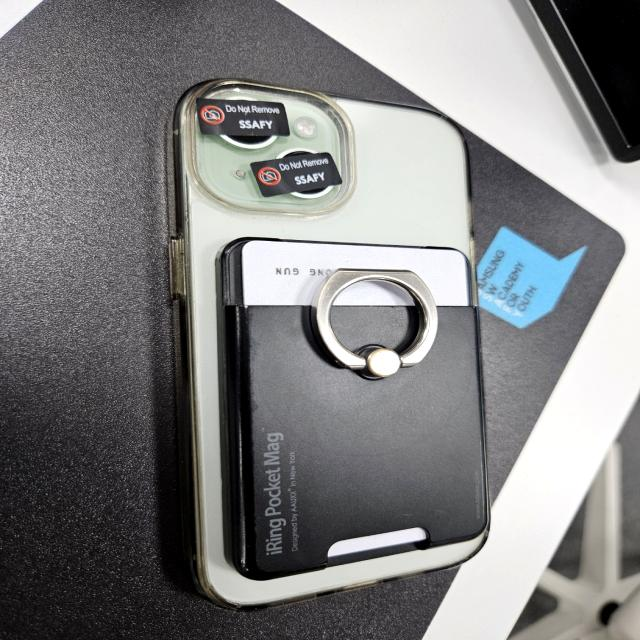phone: (171, 80, 492, 608)
sticker: (196, 93, 290, 142), (250, 153, 342, 195)
